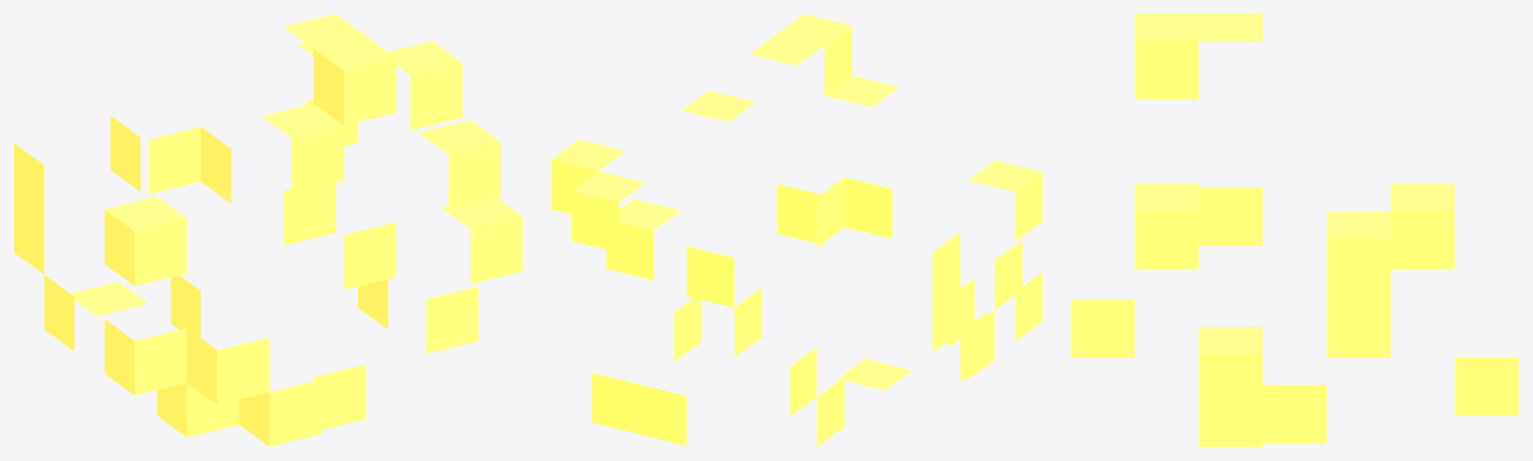
The model's file is tree-maple-0p9-gold-f2c14e.gltf.
3 views of the same model, side by side, from view 1: azimuth 30°, elevation 25°; view 2: azimuth 150°, elevation 25°; view 3: azimuth 270°, elevation 25° (orthographic). The views are drawn at different scales.
Visible parts, largest first — view 1: tree-maple-0p9-gold-f2c14e; view 2: tree-maple-0p9-gold-f2c14e; view 3: tree-maple-0p9-gold-f2c14e.
Part boxes in pixels (left/top/right/bottom): tree-maple-0p9-gold-f2c14e: left=14, top=14, right=522, bottom=446; tree-maple-0p9-gold-f2c14e: left=551, top=14, right=1042, bottom=446; tree-maple-0p9-gold-f2c14e: left=1071, top=14, right=1518, bottom=446.
Bounding box in the file's own units: 8 × 7 × 7.
